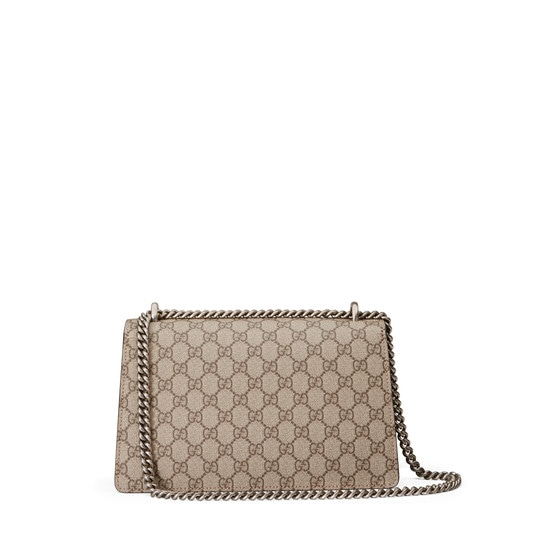Gucci: (79, 289, 426, 532), (176, 343, 385, 484)
